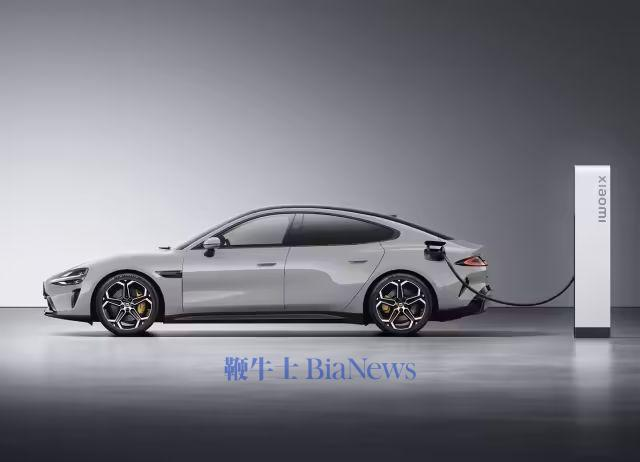su7: (45, 200, 490, 336)
